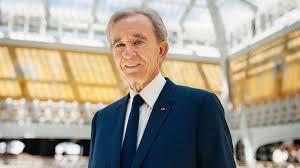person: (103, 3, 176, 84)
